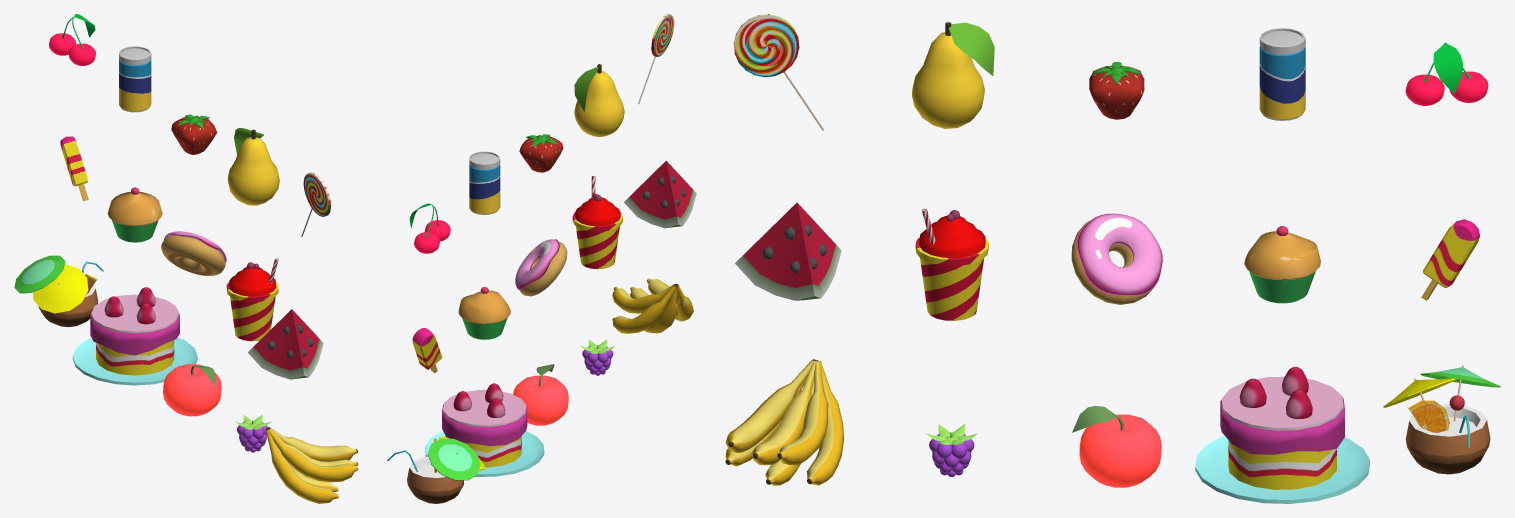
File: FoodPack.fbx
3 views of the same model, side by side, from view 1: azimuth 30°, elevation 25°; view 2: azimuth 150°, elevation 25°; view 3: azimuth 270°, elevation 25° (orthographic). The views are drawn at different scales.
Visible parts, largest first — view 1: Cake_3, Bananas_21, Watermelon_9, Milkshake_10, Pear_4, Apple_23, Cupcake_11, Donut_14, Can_24, umbrella1_20, umbrella_19, Cherry_1 (+5 smaller); view 2: Cake_3, Bananas_21, Watermelon_9, Milkshake_10, Pear_4, Apple_23, Cupcake_11, Donut_14, Can_24, umbrella_19, coconut_16, pCube1_6 (+4 smaller); view 3: Cake_3, Bananas_21, Donut_14, Watermelon_9, Pear_4, Milkshake_10, Apple_23, Cupcake_11, Can_24, coconut_16, Lollipop_2, Cherry_1 (+5 smaller).
Boxes of the visible parts, x1,y1,x2,y2 form: Cake_3: [72, 287, 197, 385]; Bananas_21: [265, 427, 358, 503]; Watermelon_9: [248, 309, 323, 379]; Milkshake_10: [226, 258, 278, 341]; Pear_4: [227, 128, 279, 205]; Apple_23: [163, 364, 221, 416]; Cupcake_11: [107, 187, 162, 242]; Donut_14: [161, 231, 226, 275]; Can_24: [119, 46, 151, 112]; umbrella1_20: [32, 264, 88, 313]; umbrella_19: [14, 255, 65, 293]; Cherry_1: [49, 14, 95, 65]; Cake_3: [425, 383, 544, 476]; Bananas_21: [612, 278, 693, 333]; Watermelon_9: [624, 160, 696, 228]; Milkshake_10: [572, 176, 622, 269]; Pear_4: [574, 64, 624, 137]; Apple_23: [513, 364, 568, 425]; Cupcake_11: [458, 287, 510, 339]; Donut_14: [515, 239, 567, 296]; Can_24: [469, 151, 500, 214]; umbrella_19: [428, 438, 480, 480]; coconut_16: [407, 456, 463, 503]; pCube1_6: [519, 135, 563, 172]; Cake_3: [1195, 367, 1369, 503]; Bananas_21: [725, 359, 844, 485]; Donut_14: [1071, 213, 1162, 304]; Watermelon_9: [735, 202, 841, 300]; Pear_4: [912, 22, 994, 128]; Milkshake_10: [915, 208, 988, 320]; Apple_23: [1072, 405, 1161, 487]; Cupcake_11: [1244, 226, 1320, 303]; Can_24: [1259, 28, 1305, 120]; coconut_16: [1405, 404, 1490, 474]; Lollipop_2: [733, 14, 824, 130]; Cherry_1: [1405, 43, 1488, 105].
Bounding box in the file's own units: 159 × 467 × 703.
